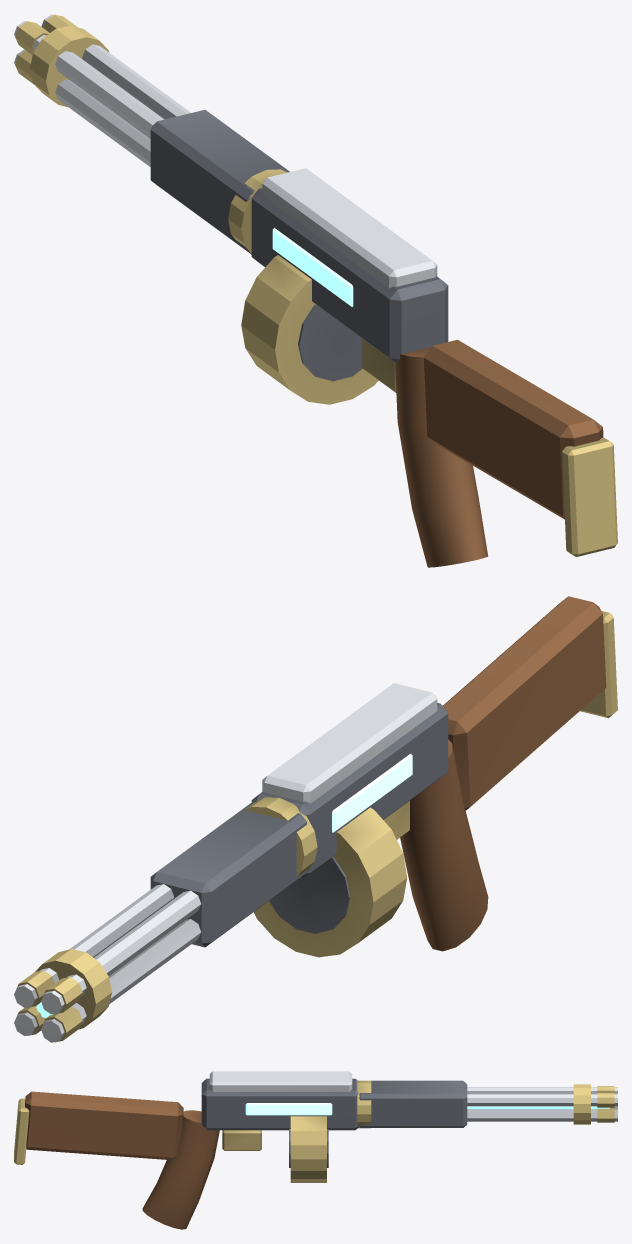
The model's file is hellfire.glb.
3 renders of one model, top to bottom at view 1: azimuth 30°, elevation 25°; view 2: azimuth 150°, elevation 25°; view 3: azimuth 270°, elevation 25°, orthographic. The views are drawn at different scales.
Parts seen in each view (by area): view 1: HellfireBody, BarrelCluster; view 2: HellfireBody, BarrelCluster; view 3: HellfireBody, BarrelCluster.
Boxes of the visible parts, bbox=[...] form: HellfireBody: bbox=[150, 110, 617, 567]; BarrelCluster: bbox=[14, 14, 190, 166]; HellfireBody: bbox=[150, 596, 617, 957]; BarrelCluster: bbox=[14, 884, 201, 1042]; HellfireBody: bbox=[14, 1071, 467, 1229]; BarrelCluster: bbox=[467, 1084, 617, 1124].
Bounding box in the file's own units: 0.104 × 0.2106 × 0.7619.
